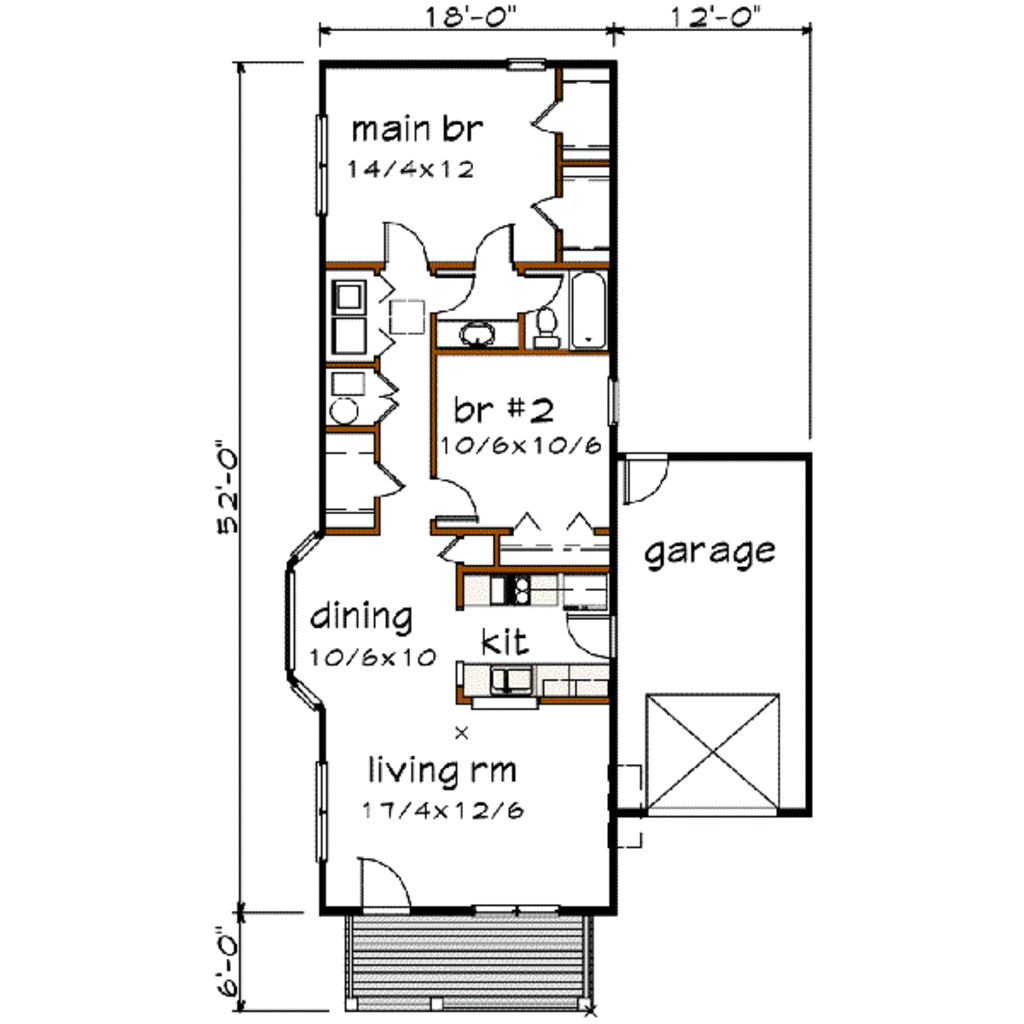door: (353, 844, 419, 919), (619, 446, 675, 511), (377, 217, 436, 275), (469, 219, 522, 267), (506, 269, 566, 310), (567, 617, 619, 664), (433, 482, 483, 530), (519, 96, 572, 139), (433, 269, 478, 313), (523, 191, 567, 235), (378, 369, 408, 432), (372, 463, 411, 507), (434, 532, 477, 566)
large_sink: (536, 307, 563, 355)
small_sink: (436, 316, 519, 360)
stairs: (344, 907, 594, 1022)
tub: (569, 269, 606, 361)
twin_sink: (489, 657, 542, 696)
window: (281, 528, 327, 563), (317, 114, 331, 221), (291, 678, 330, 716), (314, 761, 328, 861), (605, 372, 617, 430), (506, 57, 556, 67)
